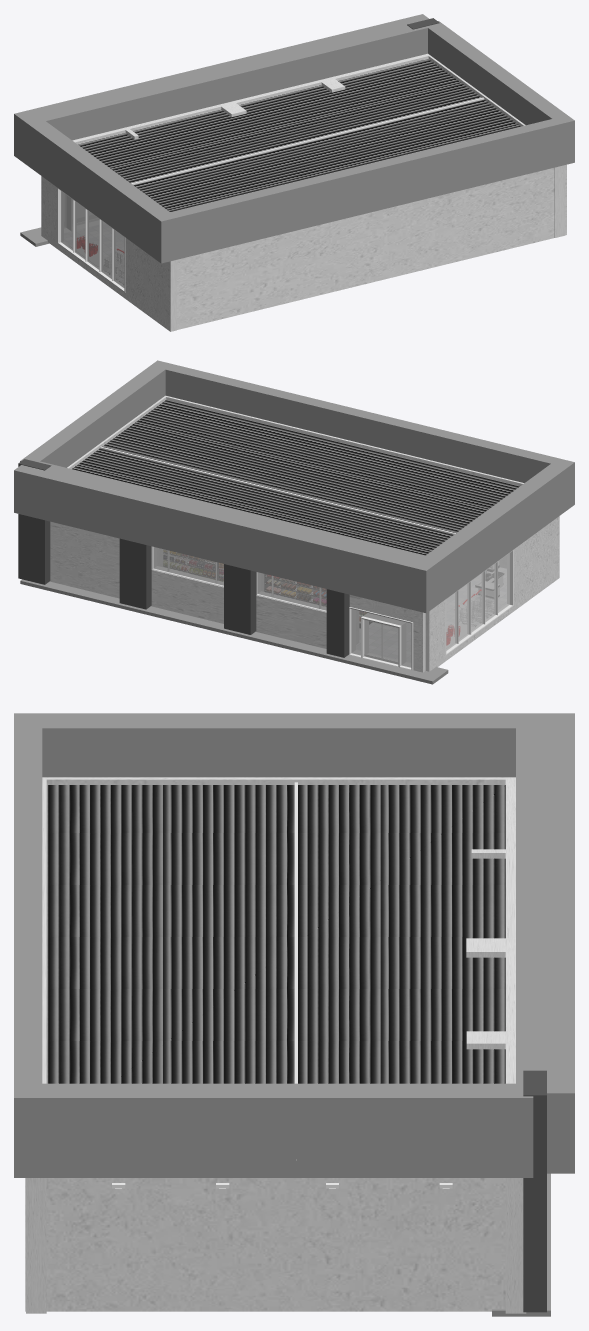
File: supermarket.glb
3 views of the same model, one above another, from view 1: azimuth 30°, elevation 25°; view 2: azimuth 150°, elevation 25°; view 3: azimuth 270°, elevation 25° (orthographic). The views are drawn at different scales.
Visible parts, largest first — view 1: Object_7060, Object_3946, Object_7074, Object_4, Object_43, Object_6, Object_41; view 2: Object_7060, Object_7074, Object_3946, Object_43, Object_7052, Object_4, Object_6, Object_818, Object_41; view 3: Object_7074, Object_7060, Object_3946, Object_7052, Object_4.
Part boxes in pixels (x1=…): Object_7060: x1=14, y1=14, x2=574, y2=263; Object_3946: x1=41, y1=53, x2=566, y2=331; Object_7074: x1=78, y1=59, x2=520, y2=211; Object_4: x1=57, y1=97, x2=484, y2=292; Object_43: x1=61, y1=191, x2=124, y2=287; Object_6: x1=64, y1=224, x2=123, y2=283; Object_41: x1=69, y1=244, x2=123, y2=283; Object_7060: x1=14, y1=360, x2=574, y2=684; Object_7074: x1=72, y1=400, x2=519, y2=555; Object_3946: x1=50, y1=395, x2=559, y2=672; Object_43: x1=153, y1=547, x2=509, y2=667; Object_7052: x1=18, y1=459, x2=349, y2=657; Object_4: x1=99, y1=446, x2=513, y2=670; Object_6: x1=356, y1=567, x2=506, y2=662; Object_818: x1=266, y1=575, x2=326, y2=604; Object_41: x1=446, y1=596, x2=493, y2=648; Object_7074: x1=46, y1=785, x2=505, y2=1083; Object_7060: x1=14, y1=713, x2=574, y2=1316; Object_3946: x1=25, y1=777, x2=526, y2=1313; Object_7052: x1=523, y1=1070, x2=546, y2=1312; Object_4: x1=112, y1=782, x2=452, y2=1188.
Bounding box in the file's own units: 29.47 × 8.01 × 18.14.
29 materials, 16 textured.
